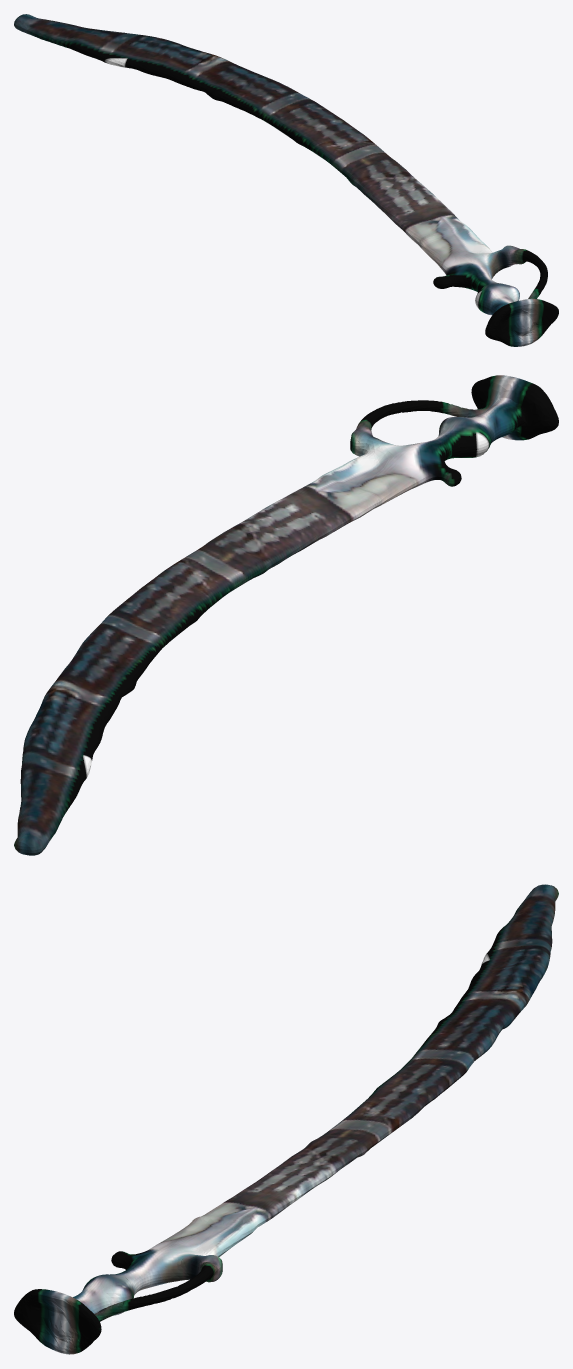
The model's file is 1774593789702-sword_glb.glb.
3 renders of one model, top to bottom at view 1: azimuth 30°, elevation 25°; view 2: azimuth 150°, elevation 25°; view 3: azimuth 330°, elevation 25°, orthographic. The views are drawn at different scales.
Parts seen in each view (by area): view 1: geometry_0; view 2: geometry_0; view 3: geometry_0.
Boxes of the visible parts, x1=… form: geometry_0: x1=14, y1=14, x2=558, y2=346; geometry_0: x1=14, y1=375, x2=558, y2=855; geometry_0: x1=14, y1=884, x2=558, y2=1354.
Size of the model in its own units: 0.3532 by 0.1158 by 1.99.
1 material, 1 textured.
